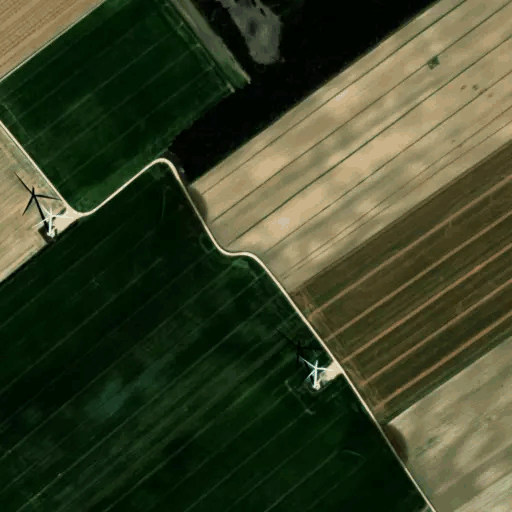wt: (7, 166, 79, 248), (280, 331, 350, 399)
